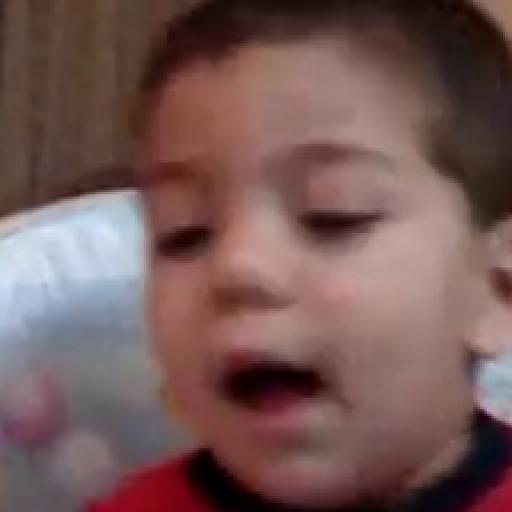Autism: (41, 8, 504, 512)
